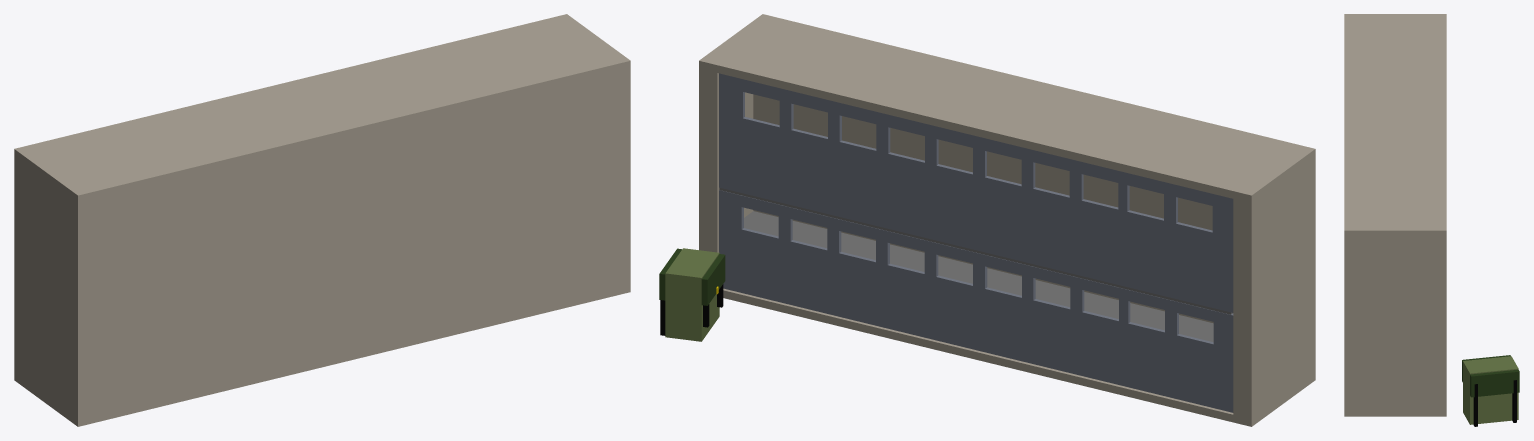
Rendered from NewLockers.fbx.
The picture shows the model from 3 angles, left to right: view 1: azimuth 30°, elevation 25°; view 2: azimuth 150°, elevation 25°; view 3: azimuth 270°, elevation 25°; orthographic projection. The views are drawn at different scales.
Parts seen in each view (by area): view 1: Cube.039; view 2: Cube.039, Cube.053, Cube.052, Cube.041, Cube.044, Cube.042, Cube.046; view 3: Cube.039, Cube.044, Cube.046, Cube.048.
Boxes of the visible parts, bbox=[...] form: Cube.039: bbox=[14, 14, 630, 426]; Cube.039: bbox=[699, 14, 1315, 426]; Cube.053: bbox=[719, 73, 1233, 312]; Cube.052: bbox=[719, 190, 1233, 412]; Cube.041: bbox=[744, 211, 1213, 342]; Cube.044: bbox=[665, 248, 719, 341]; Cube.042: bbox=[719, 187, 1232, 314]; Cube.046: bbox=[659, 248, 725, 305]; Cube.039: bbox=[1344, 14, 1446, 416]; Cube.044: bbox=[1463, 356, 1518, 424]; Cube.046: bbox=[1462, 355, 1519, 397]; Cube.048: bbox=[1473, 380, 1516, 426].
Bounding box in the file's own units: 809 × 334 × 274.
